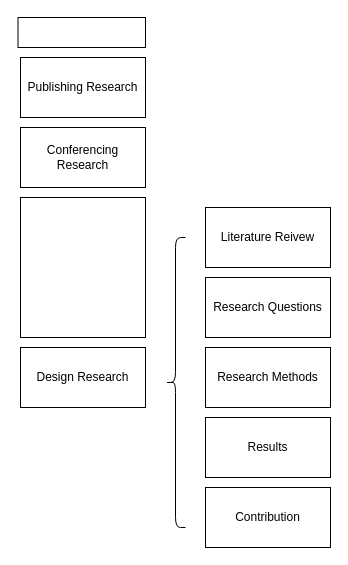
Some shapes in this 348 by 565 pixel diagram are drawn without their labels. Each missing label, with the centre of its shape:
"Authorship" goes at [81,32].
"Writing Research" goes at [83,267].
